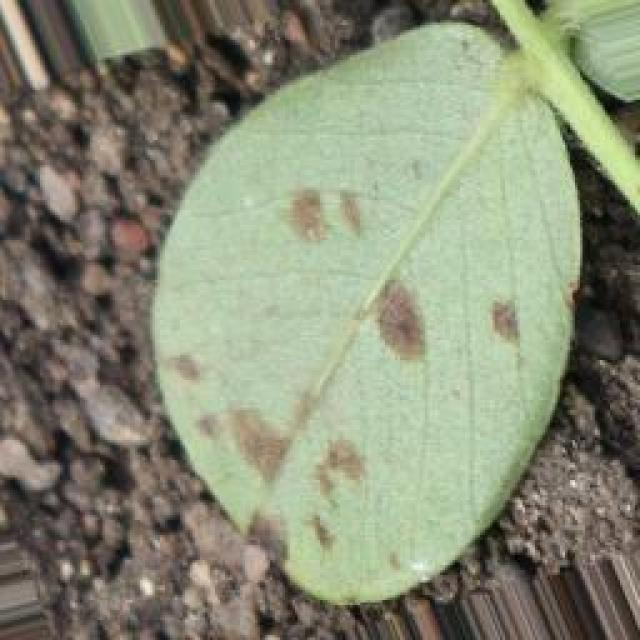Whitefly: (123, 123, 566, 612)
